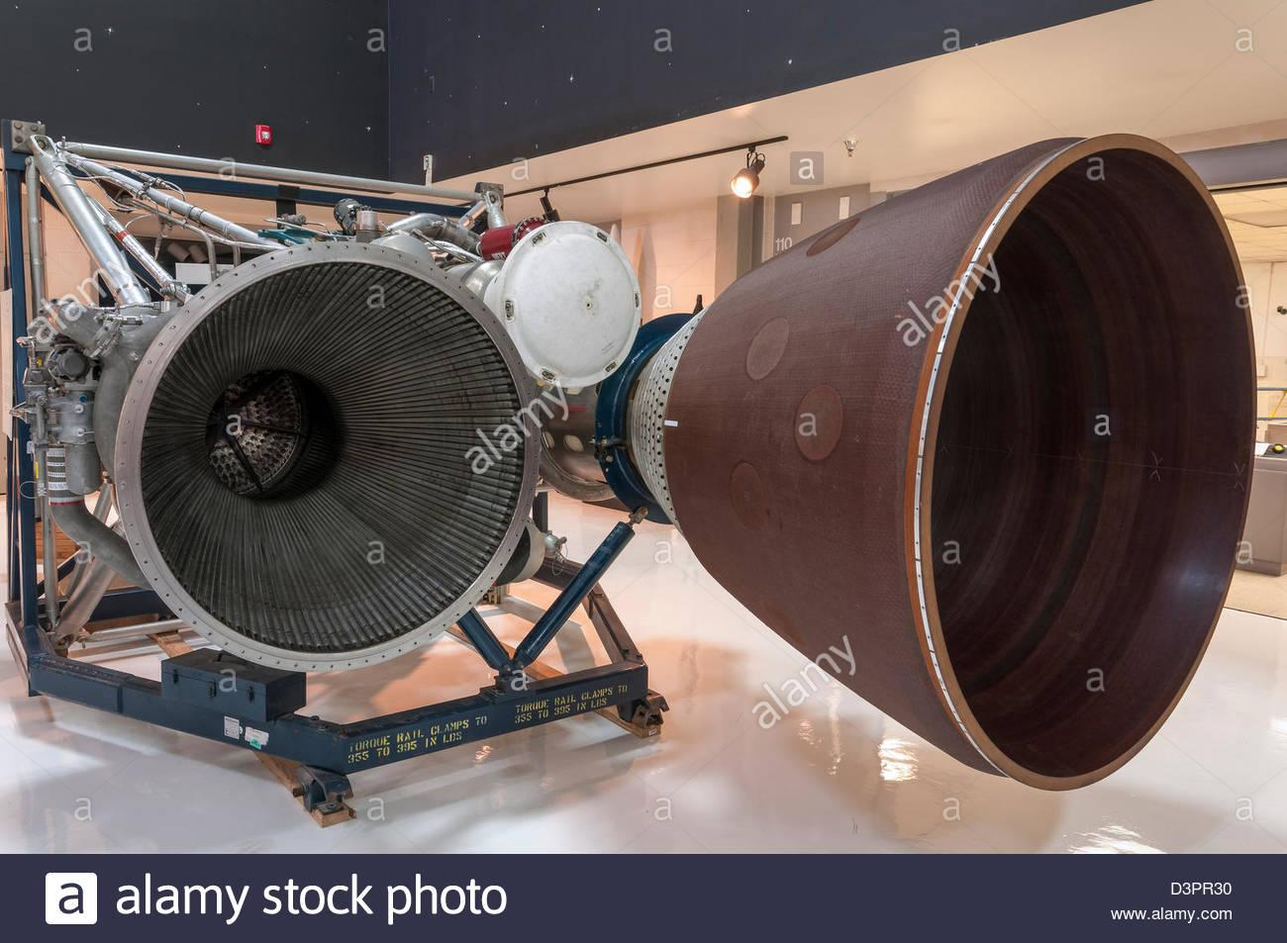thruster: (632, 126, 1261, 795), (109, 235, 545, 677)
